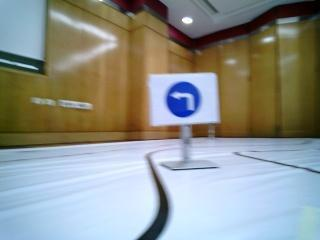left: (152, 77, 228, 128)
